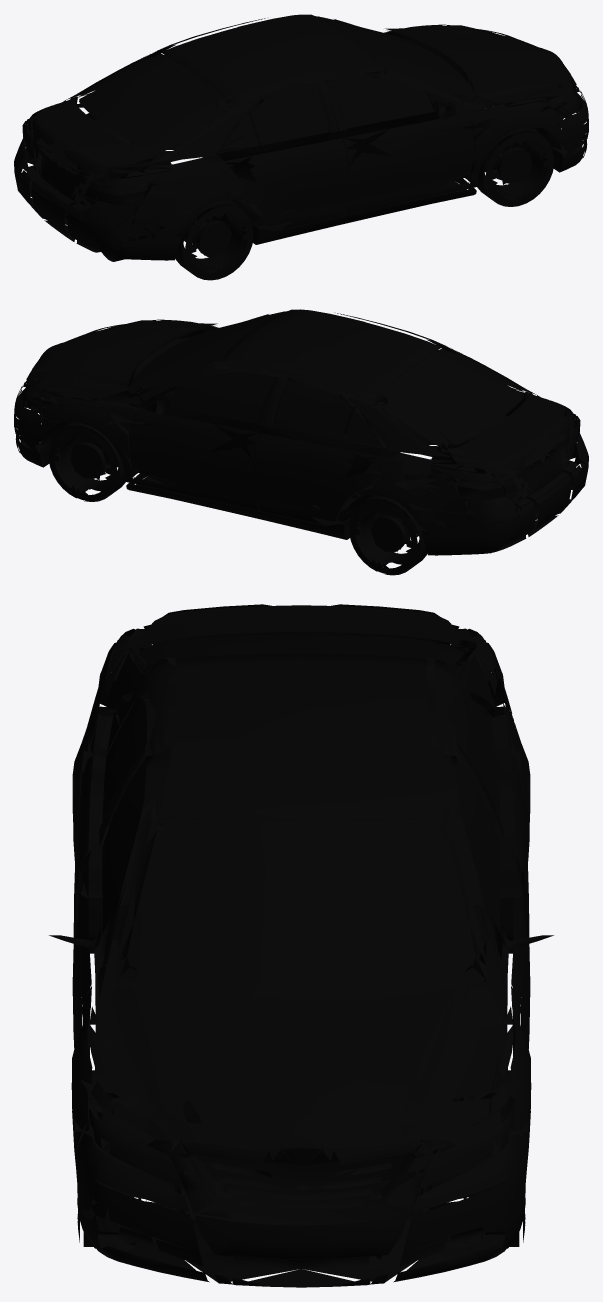
File: v_camry_lod1.glb
The picture shows the model from 3 angles, top to bottom: view 1: azimuth 30°, elevation 25°; view 2: azimuth 150°, elevation 25°; view 3: azimuth 270°, elevation 25°; orthographic projection. The views are drawn at different scales.
Parts seen in each view (by area): view 1: v_camry_lod1; view 2: v_camry_lod1; view 3: v_camry_lod1.
Boxes of the visible parts, x1,y1,x2,y2 form: v_camry_lod1: [14, 14, 588, 280]; v_camry_lod1: [14, 309, 588, 575]; v_camry_lod1: [49, 604, 553, 1287].
Bounding box in the file's own units: 4.82 × 1.46 × 2.03.
1 material, 1 textured.
